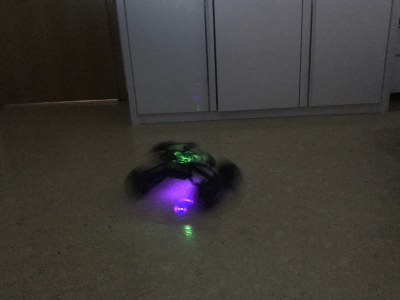remote control car: (123, 136, 244, 210)
